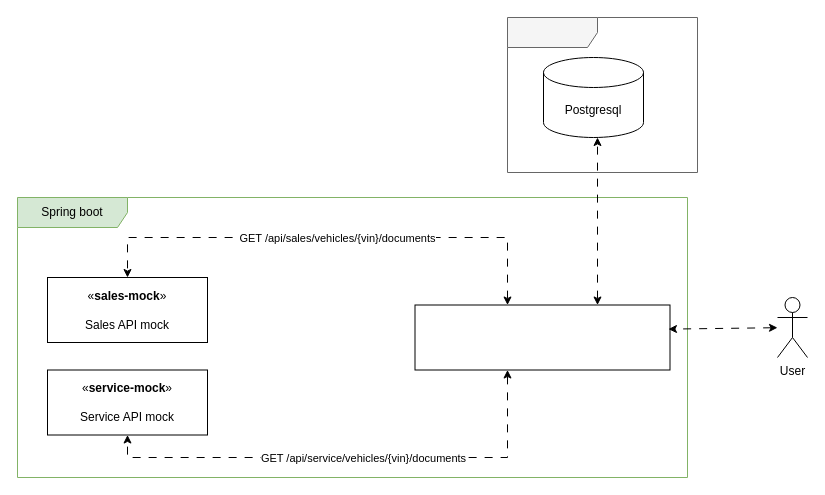
The diagram is 825 pixels wide and 495 high, and some of its shapes have lost their labels. Each missing label, with the box of its shape:
outsource: (506, 16, 698, 172)
« document-viewer » Main API (aggregates both APIs): (414, 304, 670, 370)
